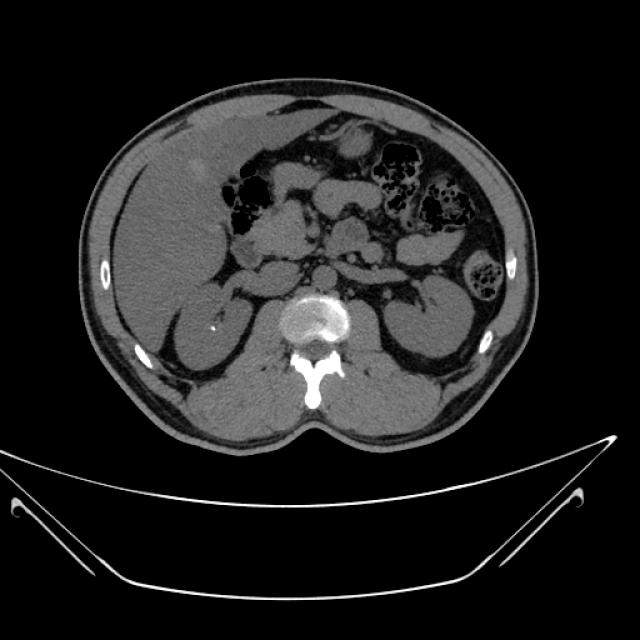kidney: (378, 273, 473, 367), (169, 286, 257, 372)
stone: (208, 322, 217, 335)
